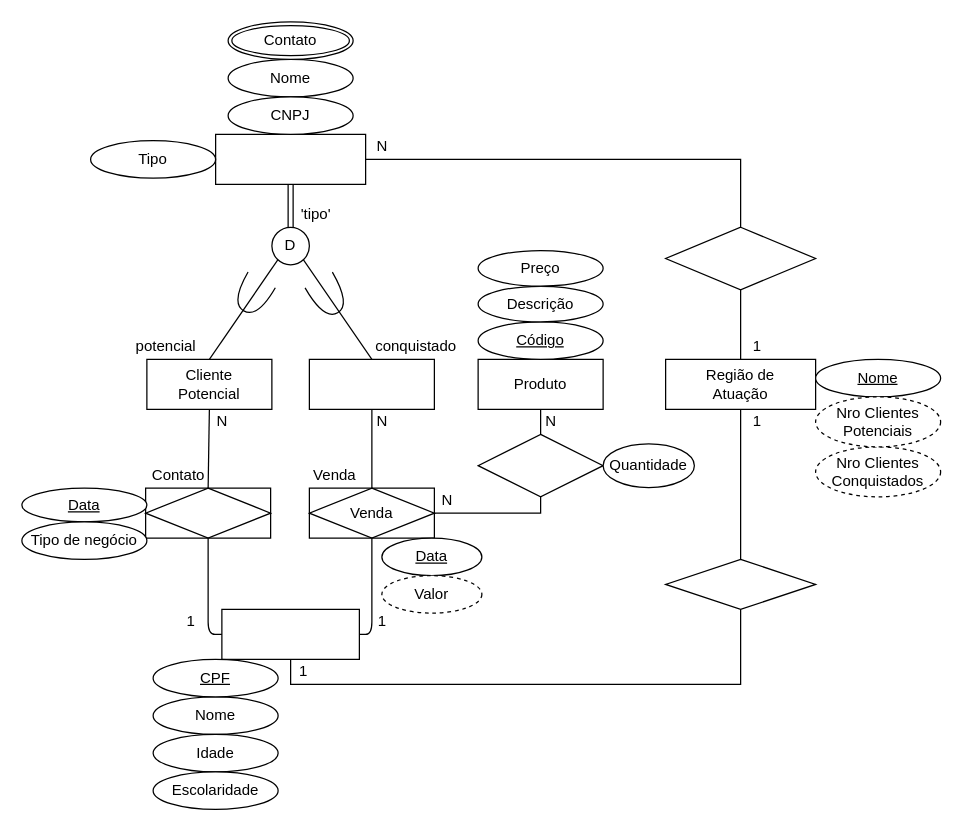
Some shapes in this 963 by 831 pixel diagram are drawn without their labels. The shapes that lost their labels are listed below. From the top down, each one's centre as x and y in pixels, then its label:
(290,158): Cliente
(740,258): Pertence
(371,383): Cliente Conquistado
(540,465): Possui
(207,512): Contata
(740,583): Atua
(290,633): Representante de Vendas
